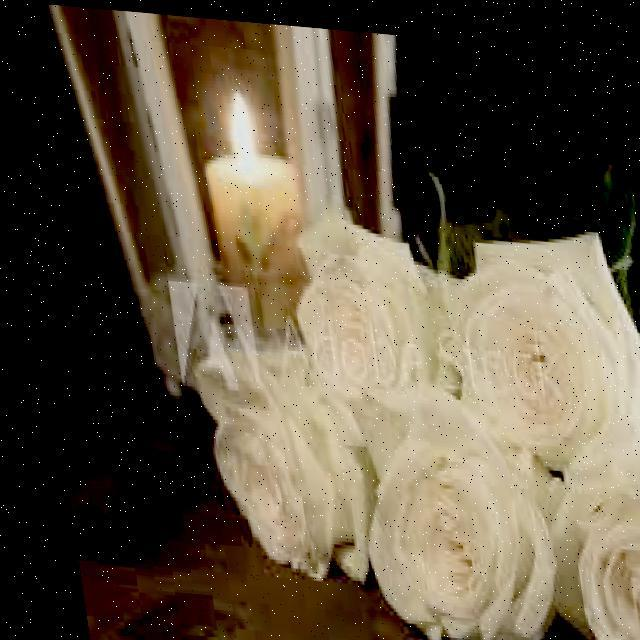Fire: (217, 81, 256, 160)
